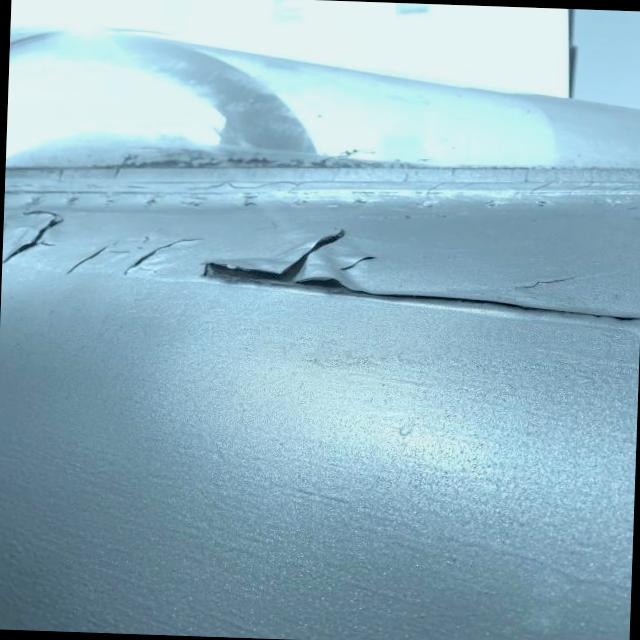crack: (66, 224, 205, 282), (500, 274, 577, 296), (334, 248, 380, 278)
